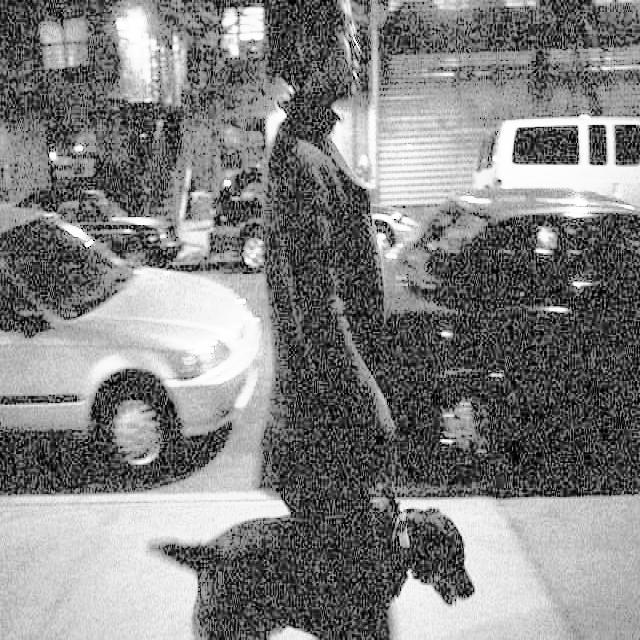Car: (362, 216, 640, 481), (0, 204, 263, 475), (476, 110, 640, 220)
Dog: (138, 497, 476, 640)
Person: (259, 0, 444, 521)
